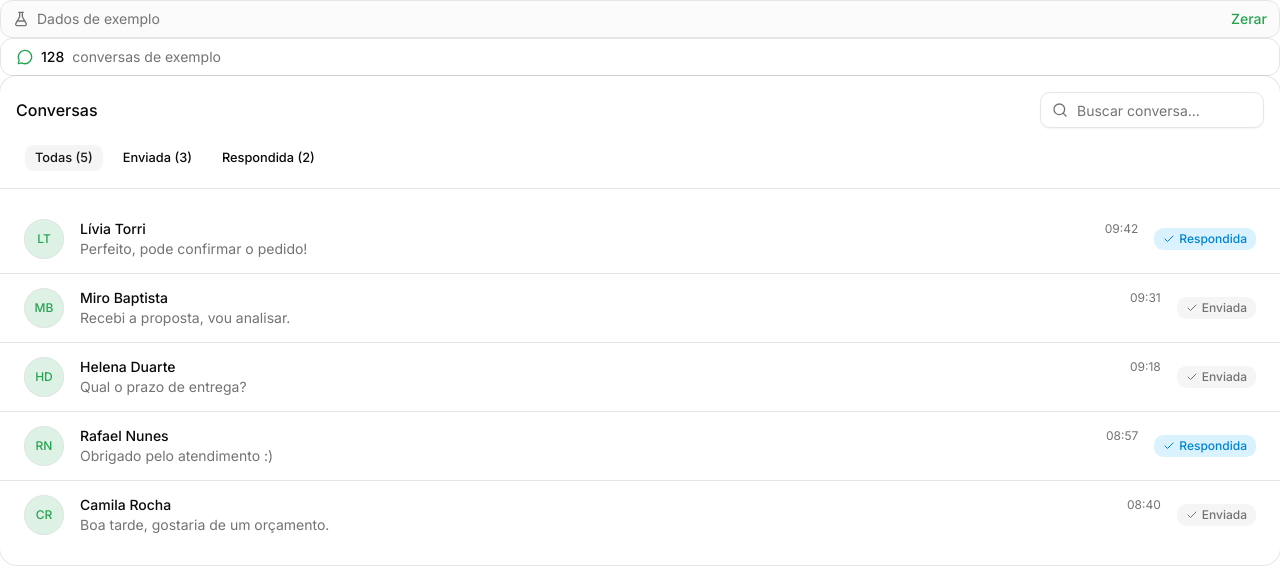
Test case: Mensagens › filtra pela busca
This screenshot has width=1280, height=583.
expect the text "Lívia Torri" is shown: met, box [80,219,146,239]
Type "Helena" into the field labelled "Buscar conversa". click: (1152, 110)
box: [1040,92,1264,128]
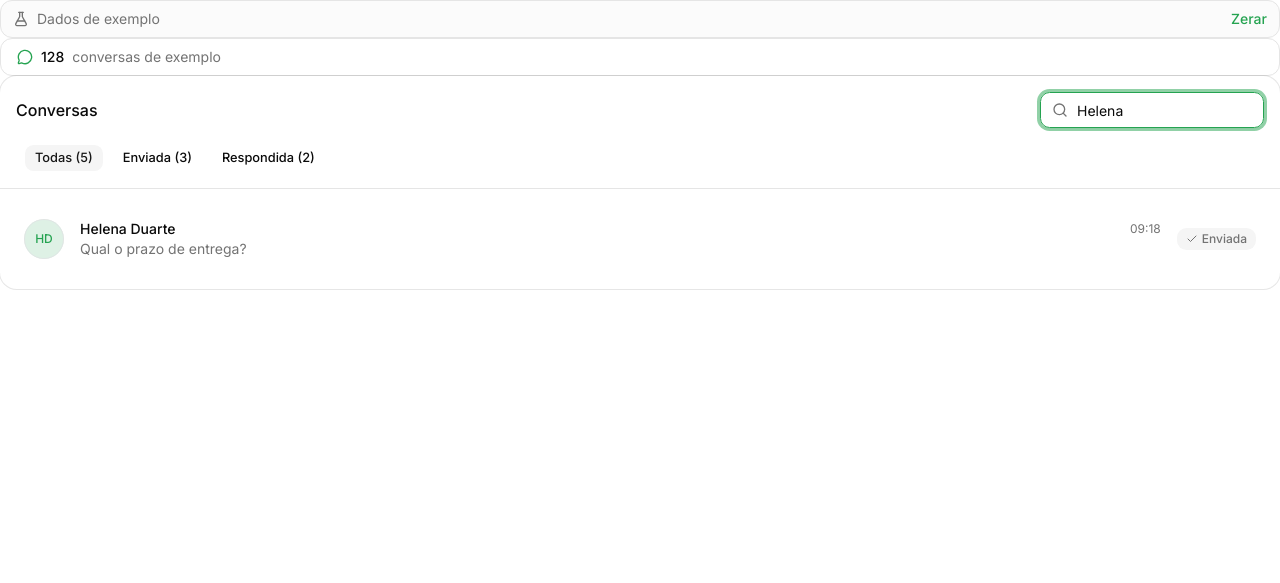
expect the text "Helena Duarte" is shown: met, box [80,219,176,239]
expect the text "Lívia Torri" is gone: met
